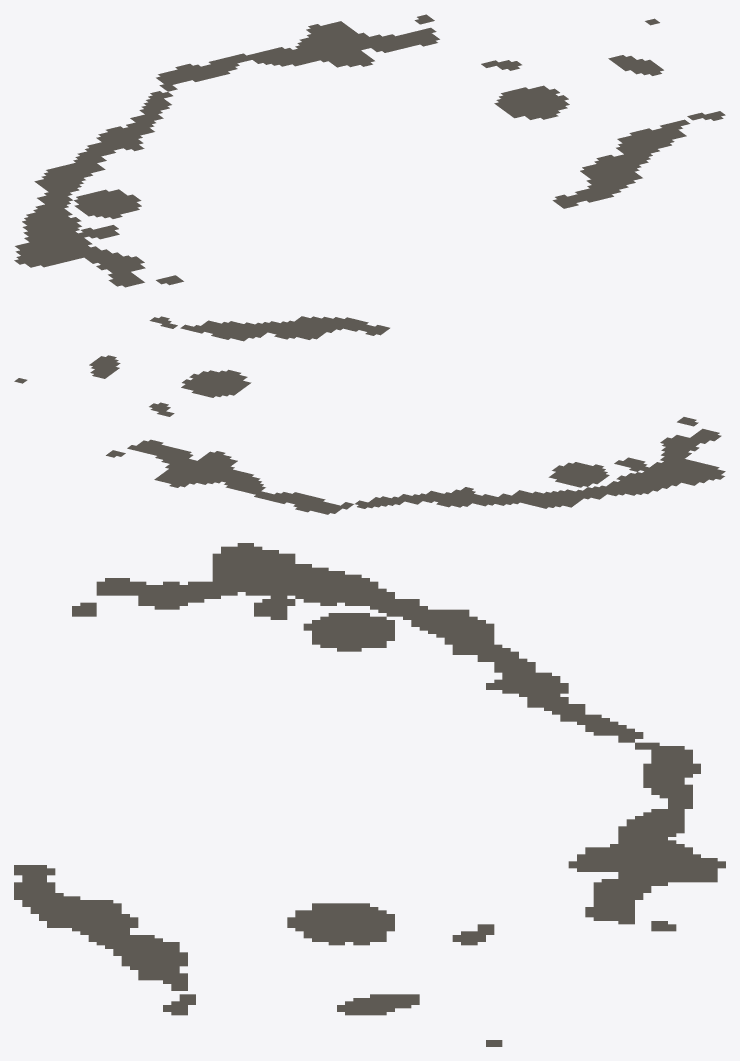
File: Isl-bot6-NoBuildArea.fbx
3 views of the same model, one above another, from view 1: azimuth 30°, elevation 25°; view 2: azimuth 150°, elevation 25°; view 3: azimuth 270°, elevation 25° (orthographic). The views are drawn at different scales.
Visible parts, largest first — view 1: Isl-bot6-NoBuildArea; view 2: Isl-bot6-NoBuildArea; view 3: Isl-bot6-NoBuildArea.
Part boxes in pixels (x1,y1,x2,y2): Isl-bot6-NoBuildArea: [14, 14, 725, 287]; Isl-bot6-NoBuildArea: [14, 316, 725, 514]; Isl-bot6-NoBuildArea: [14, 543, 725, 1046].
Size of the model in its own units: 144 by 0 by 86.
